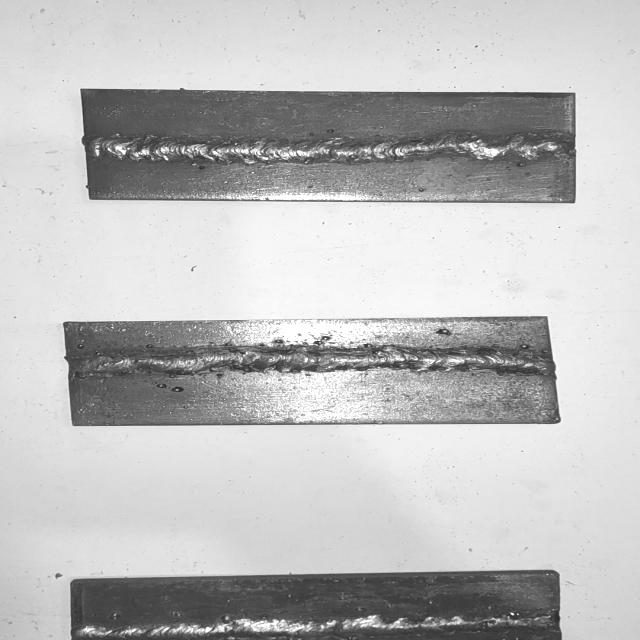Bad Weld: (87, 135, 569, 162), (76, 615, 560, 640), (72, 353, 548, 378)
Defect: (466, 132, 575, 165), (268, 332, 336, 354), (502, 610, 554, 633), (428, 323, 462, 342)
